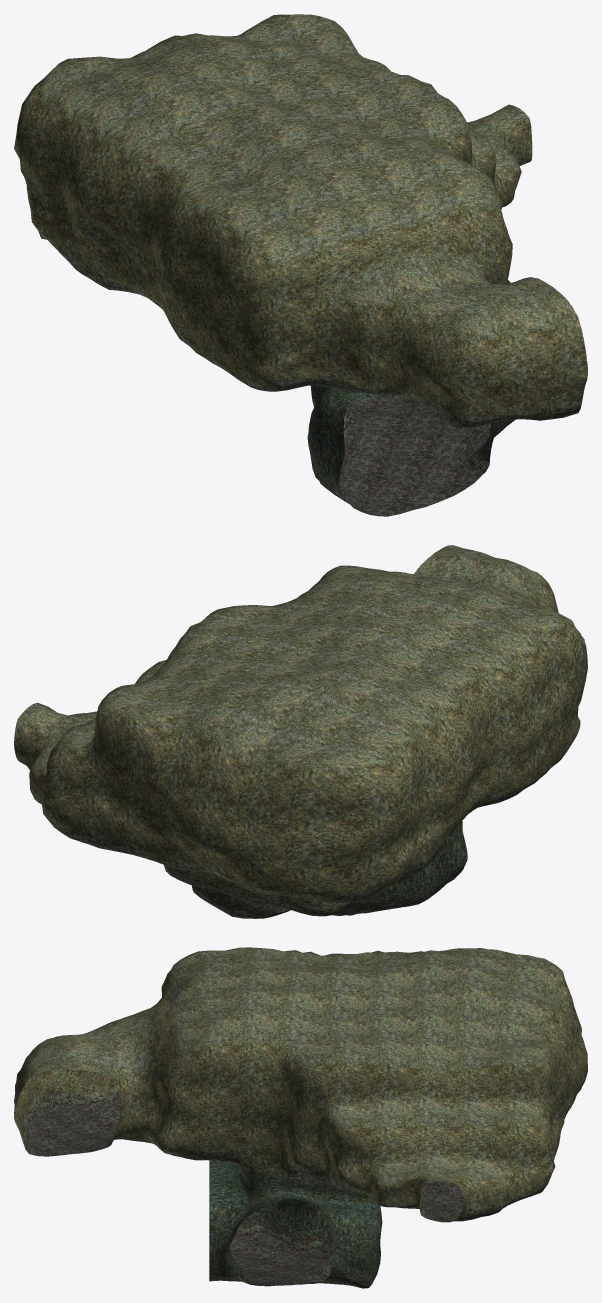
The model's file is thm_all_cave_flatland_s01_damprock_r8_mesh_r8.fbx.
3 renders of one model, top to bottom at view 1: azimuth 30°, elevation 25°; view 2: azimuth 150°, elevation 25°; view 3: azimuth 270°, elevation 25°, orthographic. The views are drawn at different scales.
Parts seen in each view (by area): view 1: mesh_node; view 2: mesh_node; view 3: mesh_node.
Boxes of the visible parts, box(x1,y1,x2,y2) form: mesh_node: box(14, 14, 587, 516); mesh_node: box(14, 545, 587, 918); mesh_node: box(14, 947, 587, 1288).
Size of the model in its own units: 94.34 by 69.23 by 131.
